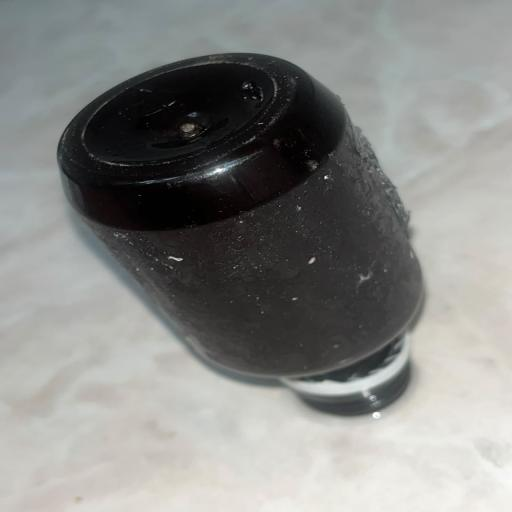HDPE: (33, 20, 459, 484)
